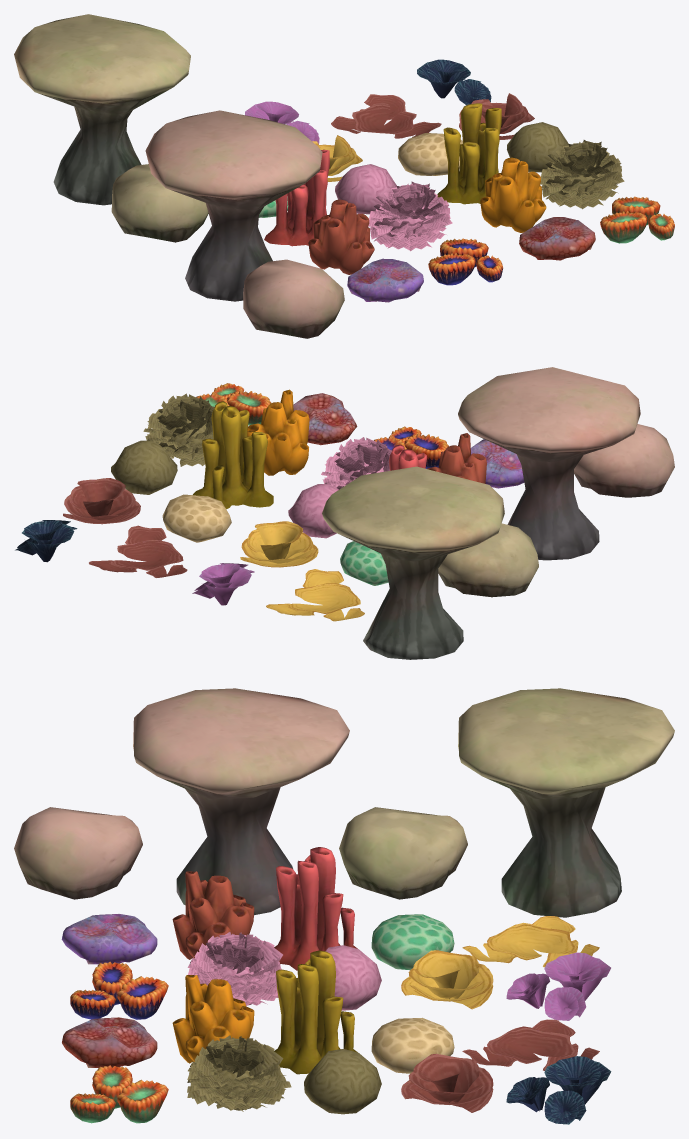
Rendered from coral-soft.glb.
The picture shows the model from 3 angles, top to bottom: view 1: azimuth 30°, elevation 25°; view 2: azimuth 150°, elevation 25°; view 3: azimuth 270°, elevation 25°; orthographic projection. The views are drawn at different scales.
Visible parts, largest first — view 1: Coral02_low1_M_coral_03_0, Coral02_low_M_coral_02_0, Coral01_low_M_coral_02_0, Coral01_low1_M_coral_03_0, coral11_M_coral_0, coral23_M_coral_01_0, coral14_M_coral_0, coral19_M_coral_01_0, coral10_M_coral_0, coral25_M_coral_01_0, coral17_M_coral_0, coral20_M_coral_01_0 (+10 smaller); view 2: Coral02_low1_M_coral_03_0, Coral02_low_M_coral_02_0, coral11_M_coral_0, Coral01_low1_M_coral_03_0, Coral01_low_M_coral_02_0, coral14_M_coral_0, coral10_M_coral_0, coral28_M_coral_01_0, coral16_M_coral_0, coral24_M_coral_01_0, coral17_M_coral_0, coral15_M_coral_0 (+12 smaller); view 3: Coral02_low1_M_coral_03_0, Coral02_low_M_coral_02_0, Coral01_low_M_coral_02_0, Coral01_low1_M_coral_03_0, coral11_M_coral_0, coral25_M_coral_01_0, coral14_M_coral_0, coral23_M_coral_01_0, coral10_M_coral_0, coral19_M_coral_01_0, coral18_M_coral_0, coral21_M_coral_01_0 (+12 smaller).
Part boxes in pixels (x1=…): Coral02_low1_M_coral_03_0: x1=14, y1=14, x2=190, y2=205; Coral02_low_M_coral_02_0: x1=145, y1=110, x2=322, y2=301; Coral01_low_M_coral_02_0: x1=243, y1=259, x2=344, y2=338; Coral01_low1_M_coral_03_0: x1=111, y1=164, x2=208, y2=242; coral11_M_coral_0: x1=437, y1=103, x2=501, y2=204; coral23_M_coral_01_0: x1=368, y1=181, x2=452, y2=251; coral14_M_coral_0: x1=540, y1=140, x2=624, y2=209; coral19_M_coral_01_0: x1=308, y1=199, x2=374, y2=274; coral10_M_coral_0: x1=480, y1=157, x2=546, y2=232; coral25_M_coral_01_0: x1=264, y1=149, x2=329, y2=246; coral17_M_coral_0: x1=331, y1=94, x2=441, y2=138; coral20_M_coral_01_0: x1=347, y1=258, x2=423, y2=302; Coral02_low1_M_coral_03_0: x1=322, y1=466, x2=504, y2=659; Coral02_low_M_coral_02_0: x1=458, y1=367, x2=640, y2=560; coral11_M_coral_0: x1=192, y1=401, x2=273, y2=509; Coral01_low1_M_coral_03_0: x1=438, y1=523, x2=538, y2=597; Coral01_low_M_coral_02_0: x1=574, y1=424, x2=674, y2=497; coral14_M_coral_0: x1=143, y1=393, x2=214, y2=466; coral10_M_coral_0: x1=247, y1=389, x2=309, y2=475; coral28_M_coral_01_0: x1=240, y1=521, x2=318, y2=567; coral16_M_coral_0: x1=63, y1=478, x2=140, y2=524; coral24_M_coral_01_0: x1=266, y1=569, x2=364, y2=621; coral17_M_coral_0: x1=89, y1=525, x2=187, y2=577; coral15_M_coral_0: x1=111, y1=440, x2=177, y2=494; Coral02_low1_M_coral_03_0: x1=458, y1=688, x2=674, y2=917; Coral02_low_M_coral_02_0: x1=133, y1=688, x2=349, y2=915; Coral01_low_M_coral_02_0: x1=14, y1=807, x2=142, y2=899; Coral01_low1_M_coral_03_0: x1=339, y1=807, x2=467, y2=899; coral11_M_coral_0: x1=274, y1=950, x2=357, y2=1074; coral25_M_coral_01_0: x1=274, y1=847, x2=357, y2=970; coral14_M_coral_0: x1=187, y1=1035, x2=291, y2=1111; coral23_M_coral_01_0: x1=187, y1=932, x2=282, y2=1005; coral10_M_coral_0: x1=172, y1=975, x2=254, y2=1063; coral19_M_coral_01_0: x1=172, y1=871, x2=254, y2=959; coral18_M_coral_0: x1=506, y1=1056, x2=611, y2=1124; coral21_M_coral_01_0: x1=506, y1=952, x2=610, y2=1020.
Size of the model in its own units: 0.2587 by 0.081 by 0.259.
4 materials, 4 textured.
